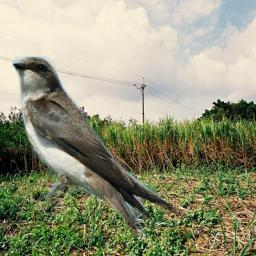Swallow: (12, 56, 178, 238)
